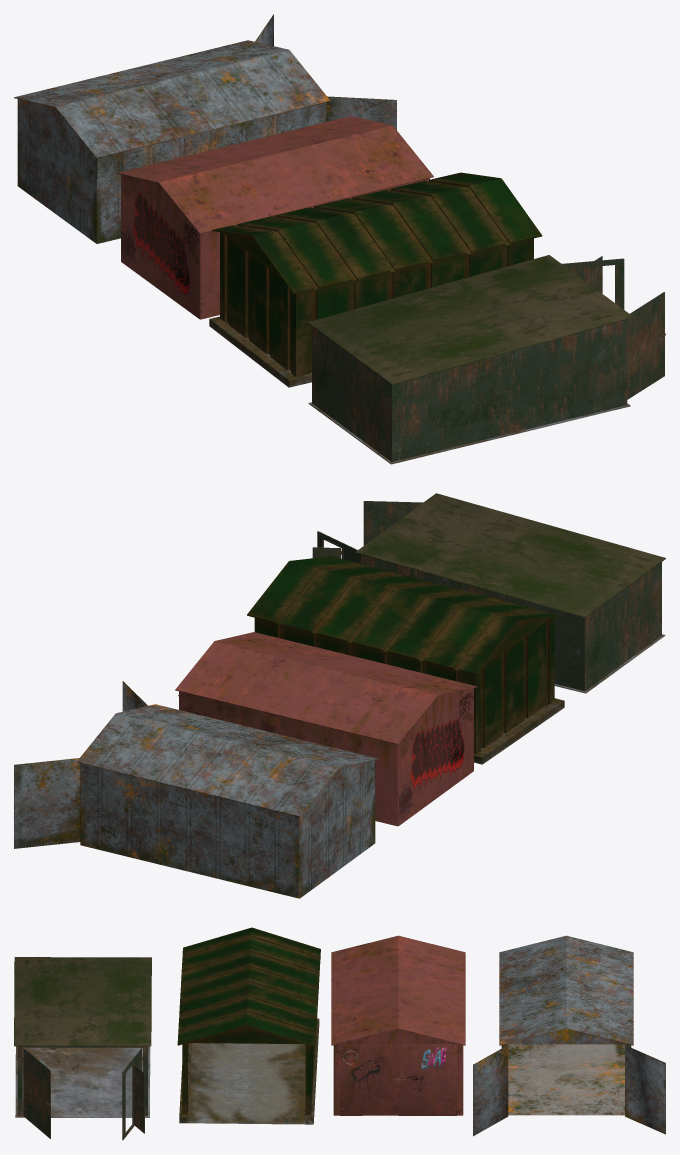
The model's file is garages.glb.
3 renders of one model, top to bottom at view 1: azimuth 30°, elevation 25°; view 2: azimuth 150°, elevation 25°; view 3: azimuth 270°, elevation 25°, orthographic. The views are drawn at different scales.
Visible parts, largest first — view 1: garage_3, garage_1, garage_4, krusha, garage; view 2: garage_4, garage_3, garage_1, krusha, garage; view 3: garage_4, garage_1, garage_3, krusha, Dveri, garage.
Part boxes in pixels (x1,y1,x2,y2): garage_3: (308,255,665,464); garage_1: (209,172,542,387); garage_4: (14,14,396,243); krusha: (117,116,433,233); garage: (121,174,429,319); garage_4: (14,681,378,898); garage_3: (312,493,665,693); garage_1: (247,556,564,764); krusha: (175,632,477,744); garage: (178,688,473,826); garage_4: (473,935,665,1136); garage_1: (177,927,320,1124); garage_3: (14,957,151,1140); krusha: (331,935,465,1045); Dveri: (339,1044,457,1115); garage: (333,1044,463,1115).
Bounding box in the file's own units: 7.12 × 2.75 × 16.56.
Materials: 4 (4 with a texture image).
